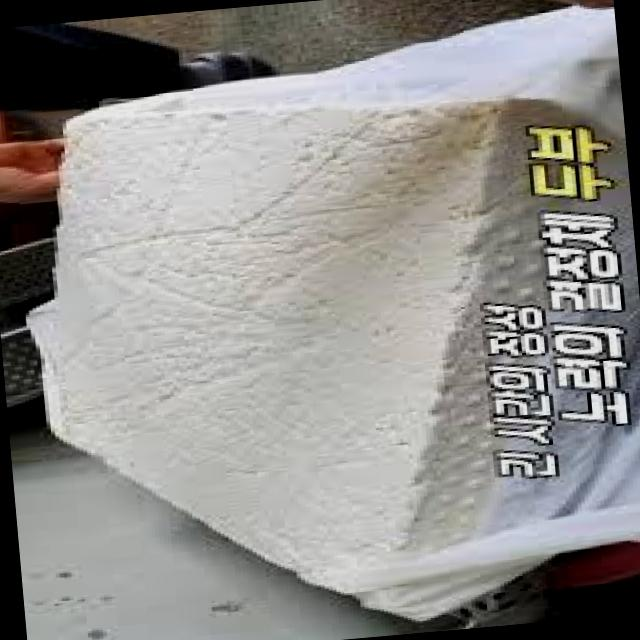tof: (0, 72, 541, 597)
